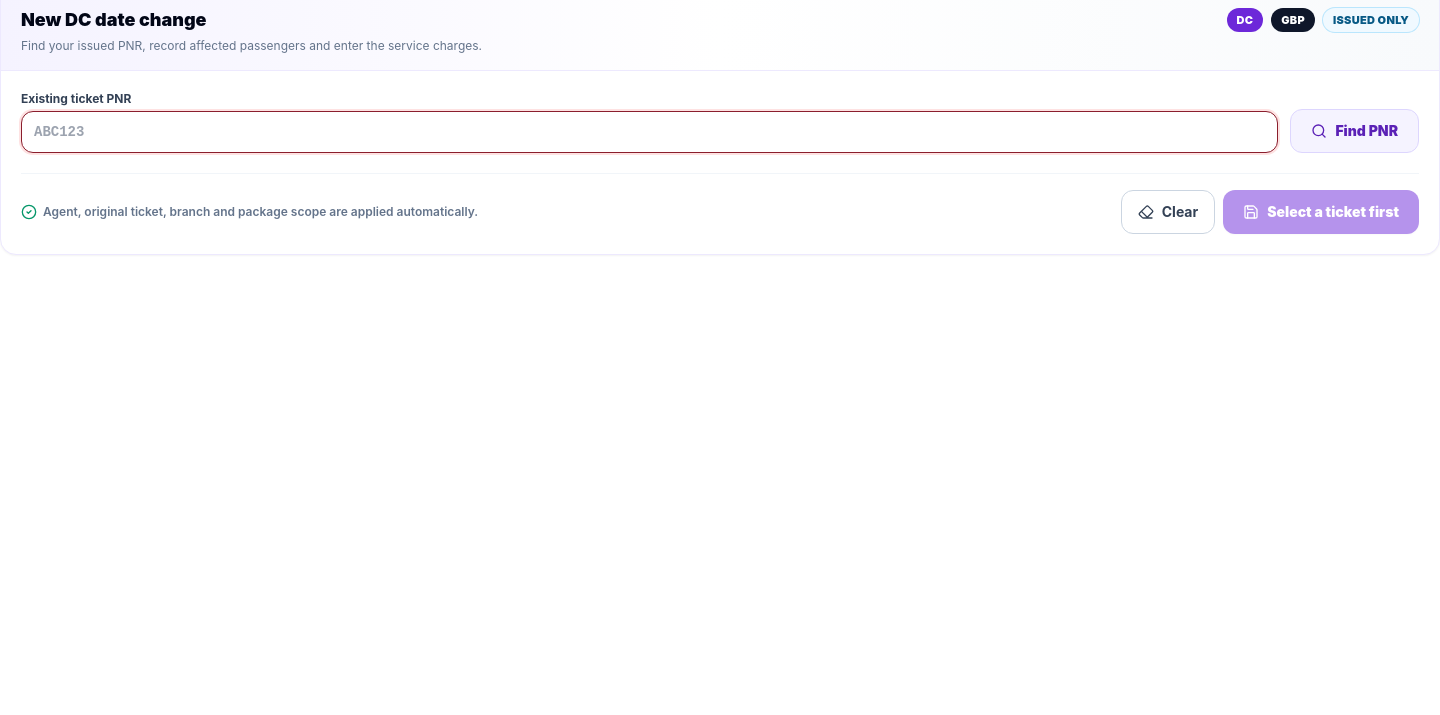
Test: TicketFollowOnEntryForm › loads later pages when more than ten issued records share the exact PNR
In the field labelled "Existing ticket PNR": (650, 132) [21,111,1278,153], type "ab c123"
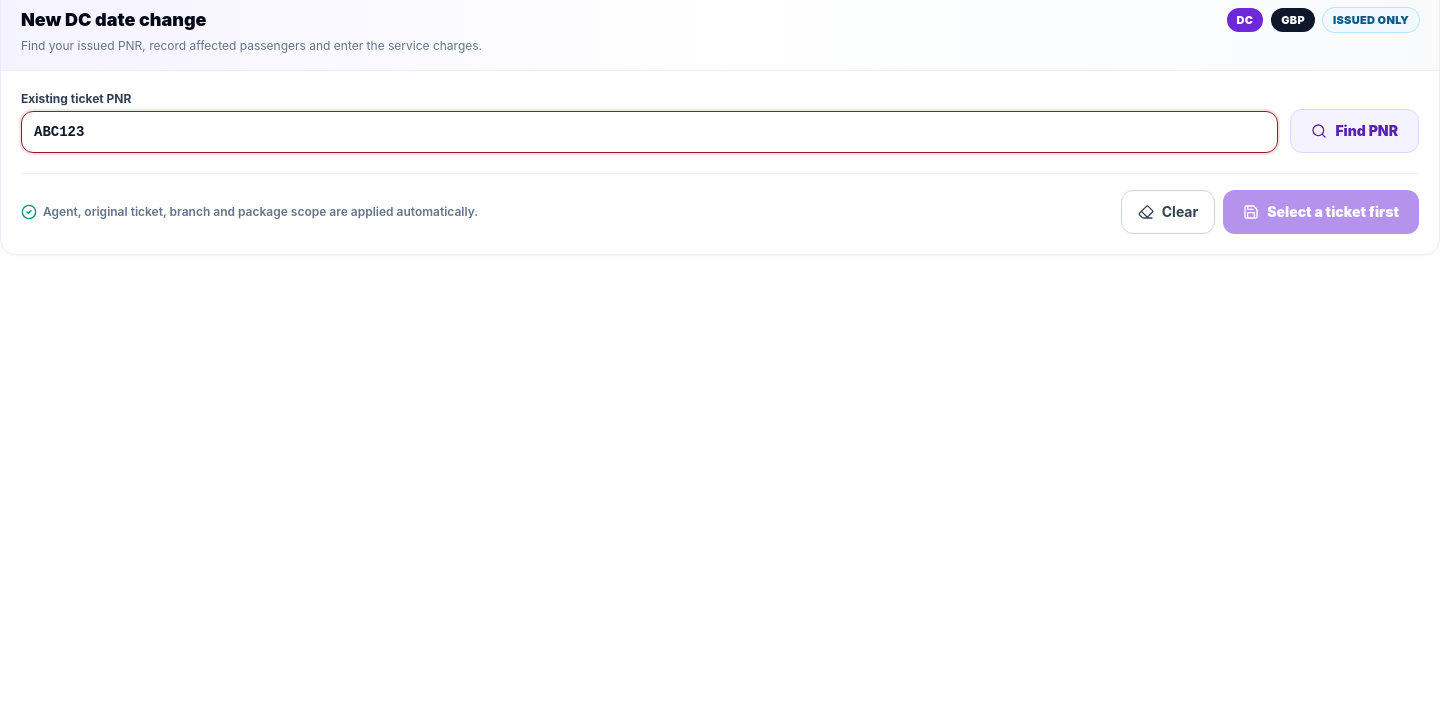
Click the button "Find PNR": (1355, 131) [1290,109,1419,153]
(page scrolled)
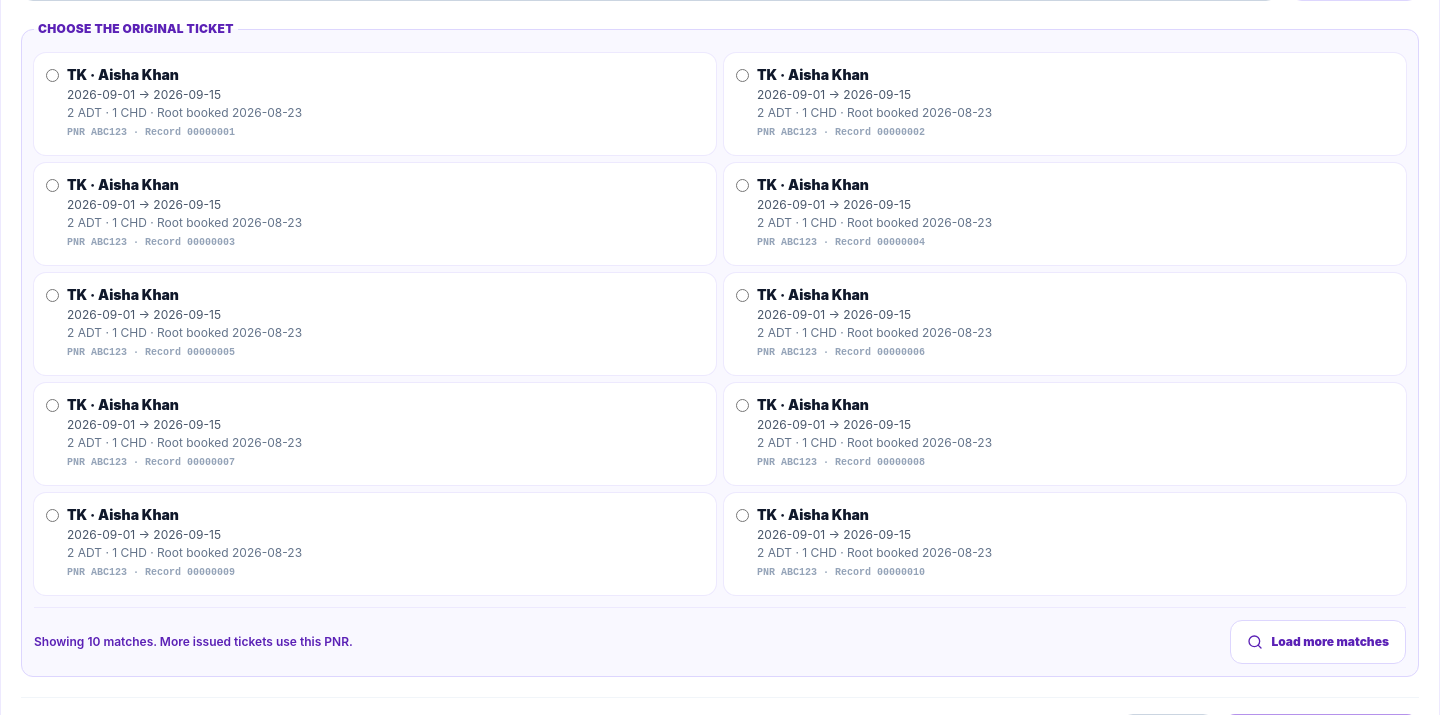
Now the number of radio buttons is 10
Now the text "Showing 10 matches. More issued tickets use this PNR." is shown, box [34,634,353,650]
Click the button "Load more matches": (1318, 642) [1230,620,1406,664]
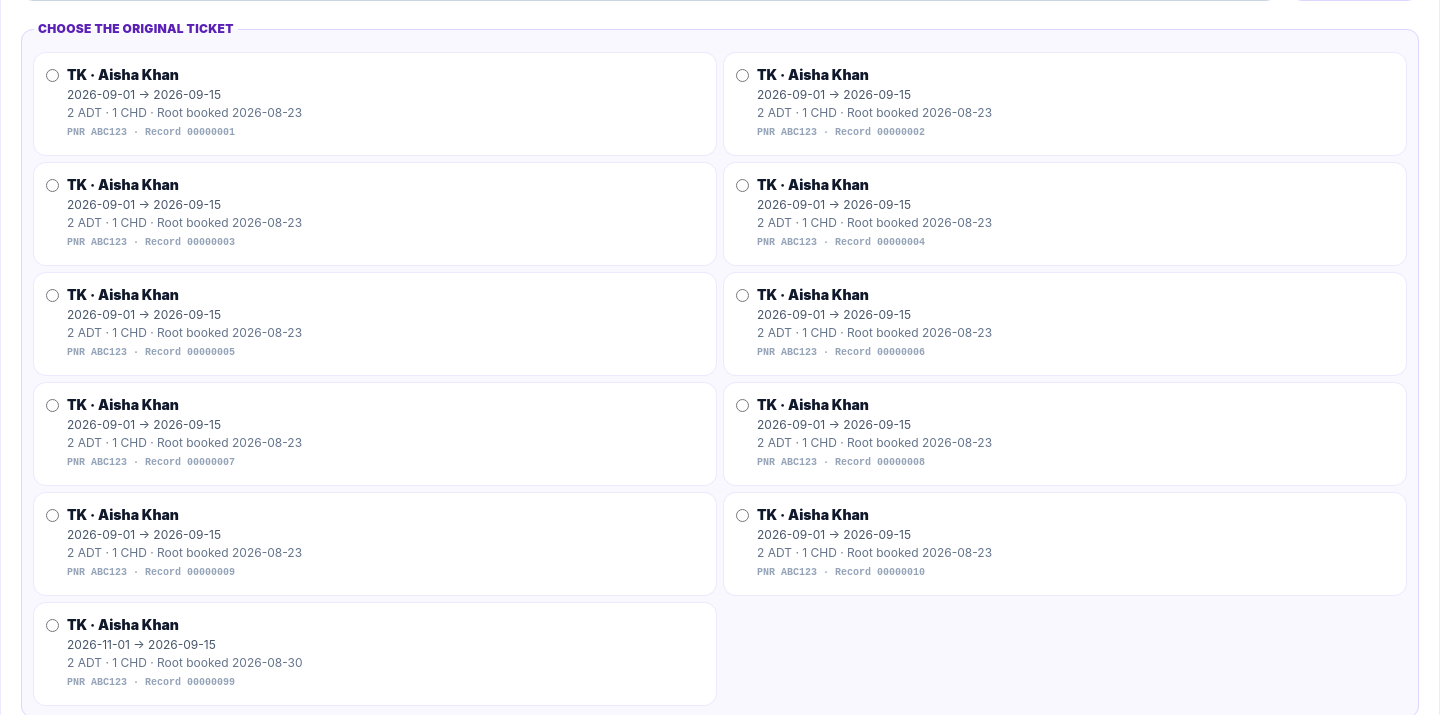
Now the text "PNR ABC123 · Record 00000099" is shown, box [67,677,235,688]
